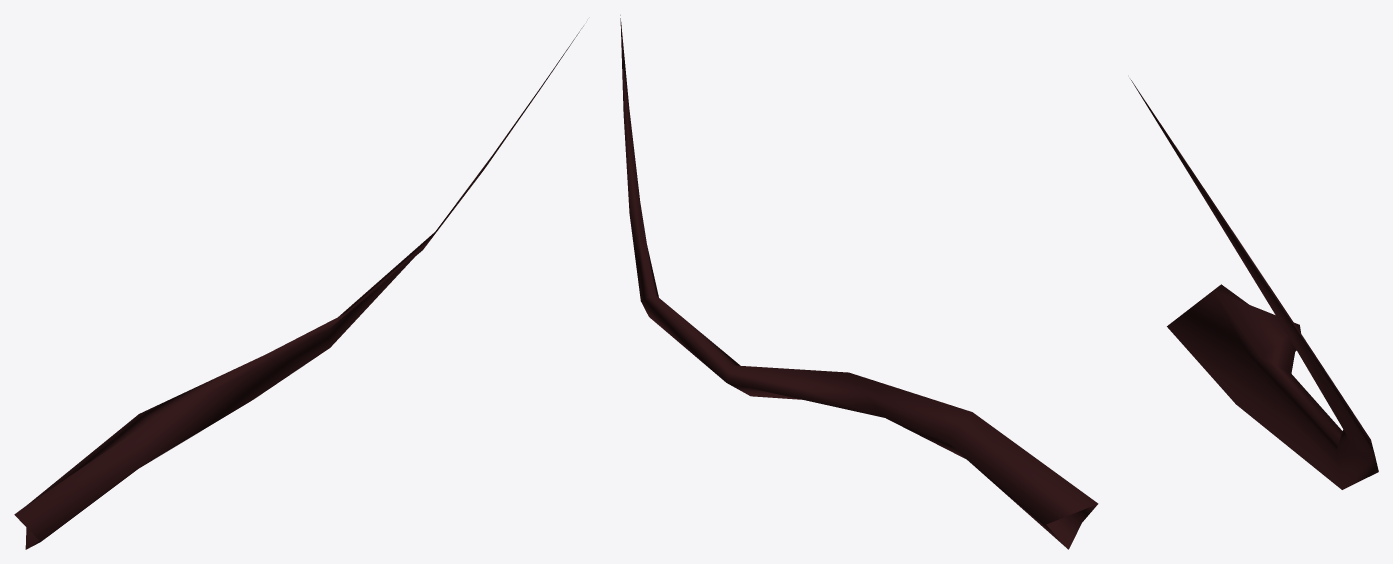
The model's file is SM_Branch01.fbx.
The picture shows the model from 3 angles, left to right: view 1: azimuth 30°, elevation 25°; view 2: azimuth 150°, elevation 25°; view 3: azimuth 270°, elevation 25°; orthographic projection. The views are drawn at different scales.
Parts seen in each view (by area): view 1: SM_Branch01; view 2: SM_Branch01; view 3: SM_Branch01.
Boxes of the visible parts, <box> form: SM_Branch01: <box>14,26,583,549</box>; SM_Branch01: <box>620,15,1098,549</box>; SM_Branch01: <box>1130,79,1378,489</box>.
Size of the model in its own units: 8.55 by 1.86 by 6.42.
